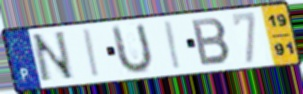7: (230, 12, 260, 65)
B: (189, 16, 233, 67)
I: (82, 27, 102, 79), (163, 19, 183, 71)
N: (29, 29, 77, 86)
U: (111, 21, 155, 77)
